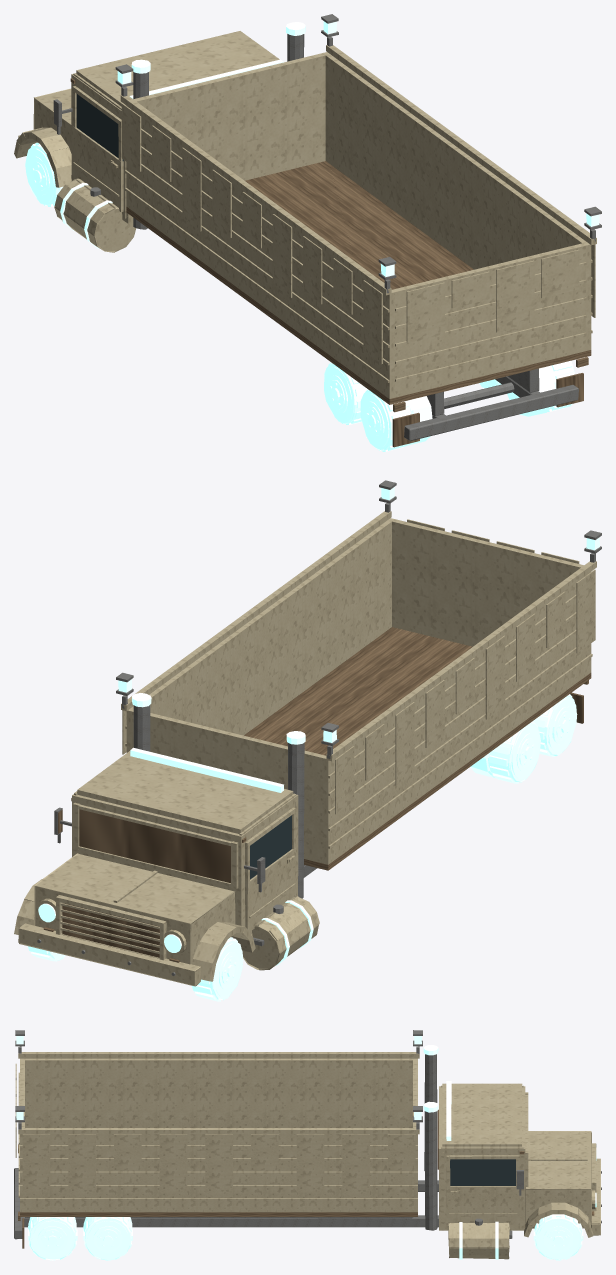
Rendered from ghost_hauler.glb.
3 renders of one model, top to bottom at view 1: azimuth 30°, elevation 25°; view 2: azimuth 150°, elevation 25°; view 3: azimuth 270°, elevation 25°, orthographic. The views are drawn at different scales.
Visible parts, largest first — view 1: GhostHauler, Tailgate, Door_L, Wheel_L3, Wheel_L2, Glass_L, Wheel_L1, Wheel_R3; view 2: GhostHauler, Tailgate, Door_L, Wheel_L2, Wheel_L3, Wheel_L1, Glass_L; view 3: GhostHauler, Door_R, Wheel_R2, Wheel_R3, Wheel_R1, Glass_R.
Boxes of the visible parts, left/top/right/bottom form: GhostHauler: left=14, top=14, right=601, bottom=447; Tailgate: left=392, top=243, right=585, bottom=397; Door_L: left=72, top=86, right=123, bottom=211; Wheel_L3: left=360, top=389, right=432, bottom=451; Wheel_L2: left=324, top=362, right=367, bottom=424; Glass_L: left=76, top=94, right=123, bottom=161; Wheel_L1: left=25, top=142, right=62, bottom=206; Wheel_R3: left=507, top=360, right=575, bottom=416; GhostHauler: left=14, top=480, right=601, bottom=986; Tailgate: left=392, top=519, right=583, bottom=646; Door_L: left=245, top=807, right=296, bottom=931; Wheel_L2: left=470, top=720, right=540, bottom=783; Wheel_L3: left=533, top=694, right=577, bottom=756; Wheel_L1: left=191, top=937, right=243, bottom=1001; Glass_L: left=250, top=815, right=291, bottom=879; GhostHauler: left=14, top=1030, right=601, bottom=1259; Door_R: left=446, top=1155, right=519, bottom=1224; Wheel_R2: left=83, top=1217, right=132, bottom=1260; Wheel_R3: left=28, top=1217, right=77, bottom=1260; Wheel_R1: left=533, top=1214, right=583, bottom=1260; Glass_R: left=450, top=1159, right=515, bottom=1185.
Size of the model in its own units: 3.41 by 2.98 by 10.1.
5 materials, 3 textured.
